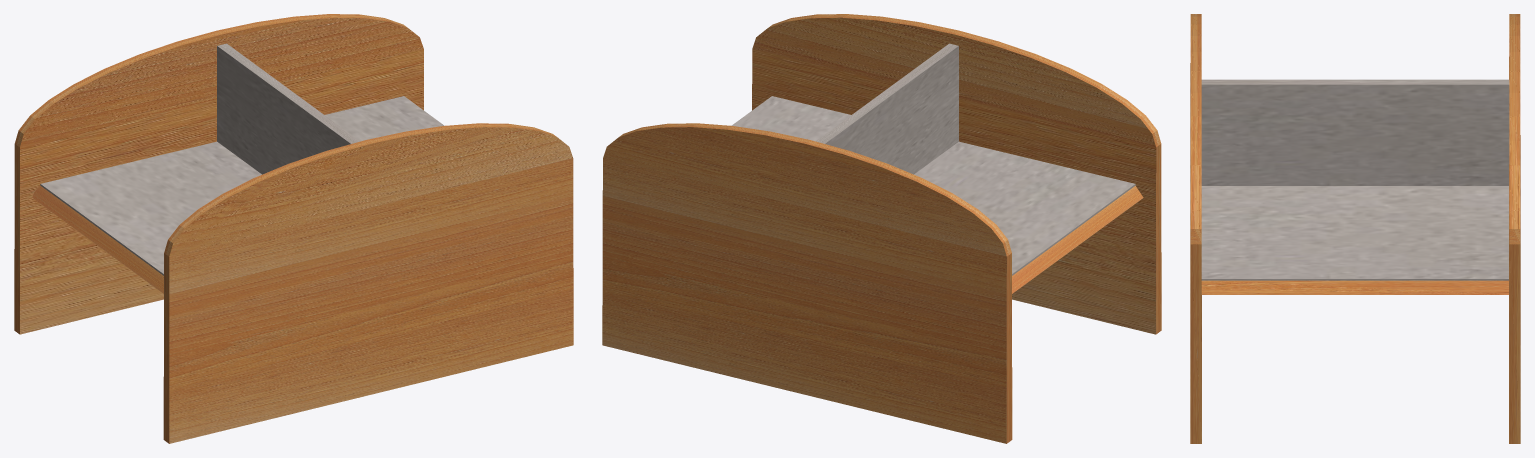
Rendered from tisch_desk.fbx.
The picture shows the model from 3 angles, left to right: view 1: azimuth 30°, elevation 25°; view 2: azimuth 150°, elevation 25°; view 3: azimuth 270°, elevation 25°; orthographic projection. The views are drawn at different scales.
Parts seen in each view (by area): view 1: Cube.002, Cube.001, Cube.005, Cube.003, Cube.004, Cube; view 2: Cube.001, Cube.002, Cube.005, Cube.003, Cube.004, Cube; view 3: Cube.003, Cube.004, Cube.001, Cube.002, Cube.
Part boxes in pixels (x1,y1,x2,y2): Cube.002: (163,123,573,443); Cube.001: (14,14,423,334); Cube.005: (40,141,261,275); Cube.003: (217,43,360,174); Cube.004: (325,96,444,141); Cube: (32,186,163,293); Cube.001: (602,123,1012,443); Cube.002: (752,14,1161,334); Cube.005: (914,141,1135,275); Cube.003: (816,43,958,174); Cube.004: (731,96,850,141); Cube: (1012,186,1143,293); Cube.003: (1201,79,1509,185); Cube.004: (1201,186,1508,280); Cube.001: (1509,14,1520,443); Cube.002: (1190,14,1201,443); Cube: (1201,280,1508,294).
Bounding box in the file's own units: 250 × 148 × 166.
